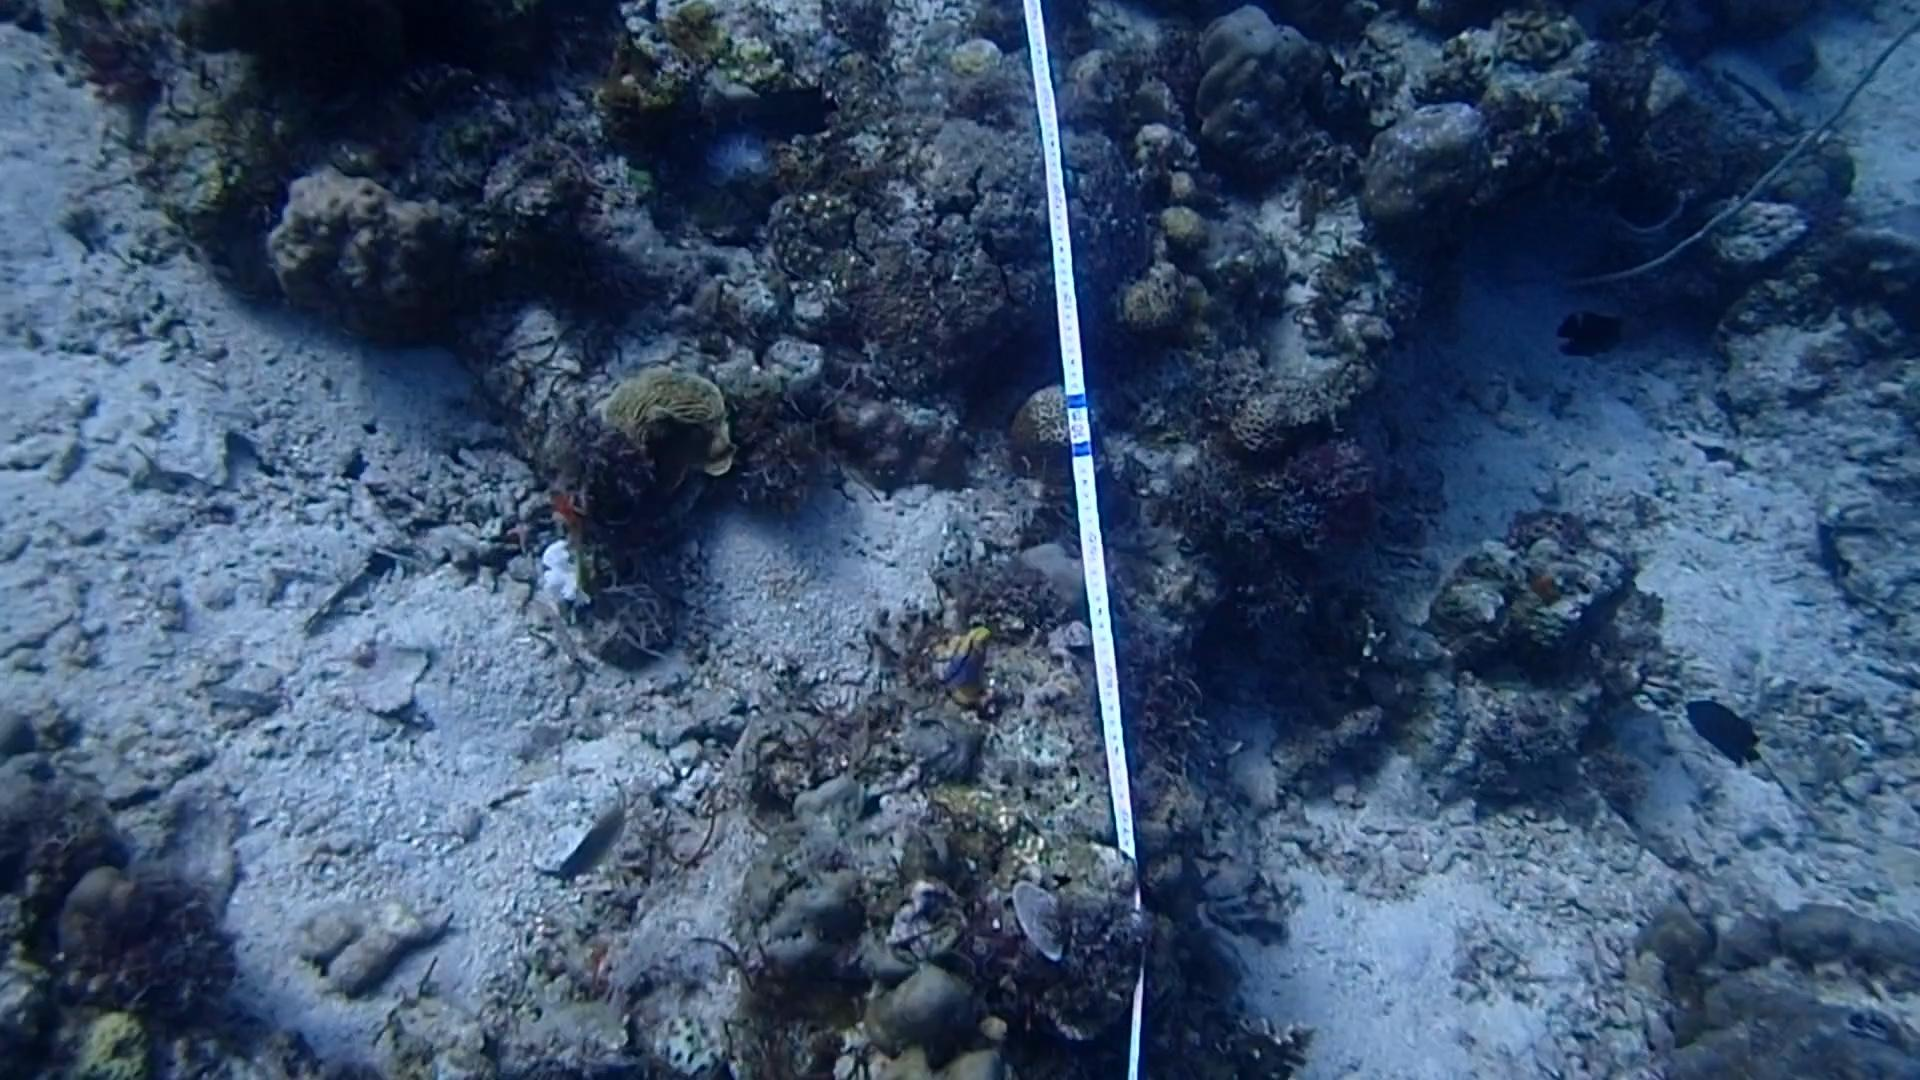Dark Fish: (733, 73, 844, 146), (1543, 289, 1630, 376), (1683, 684, 1764, 777)
Light Fish: (541, 781, 653, 886)
